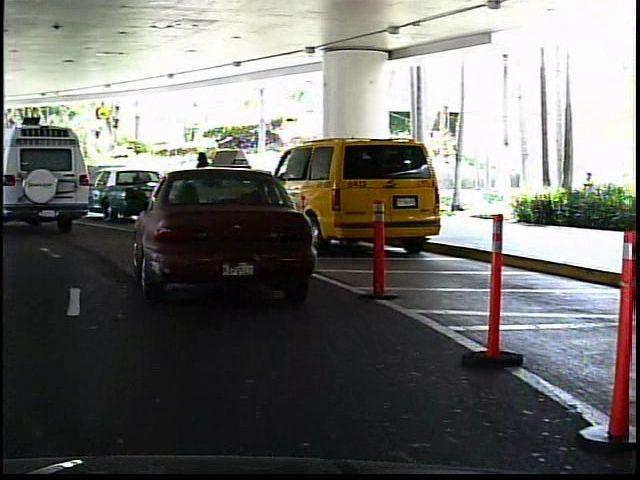person: (189, 146, 217, 215), (225, 142, 251, 211), (70, 151, 91, 200), (8, 158, 27, 197)
